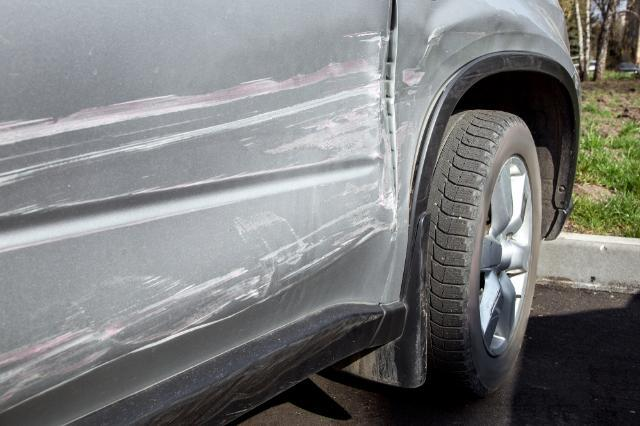dent: (396, 17, 532, 174)
scratch: (0, 30, 400, 413)
